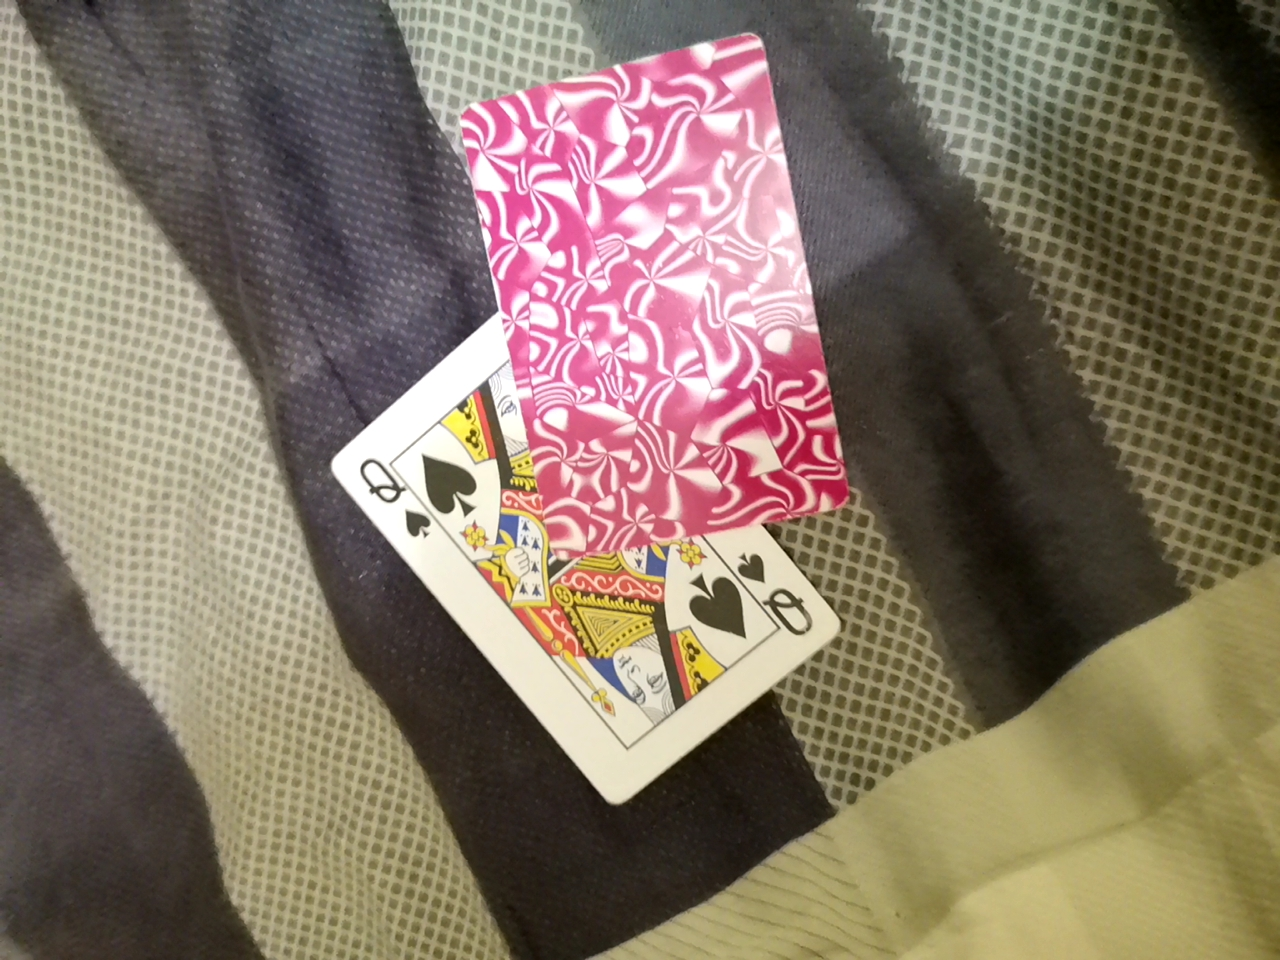ht q: (329, 151, 884, 881)
